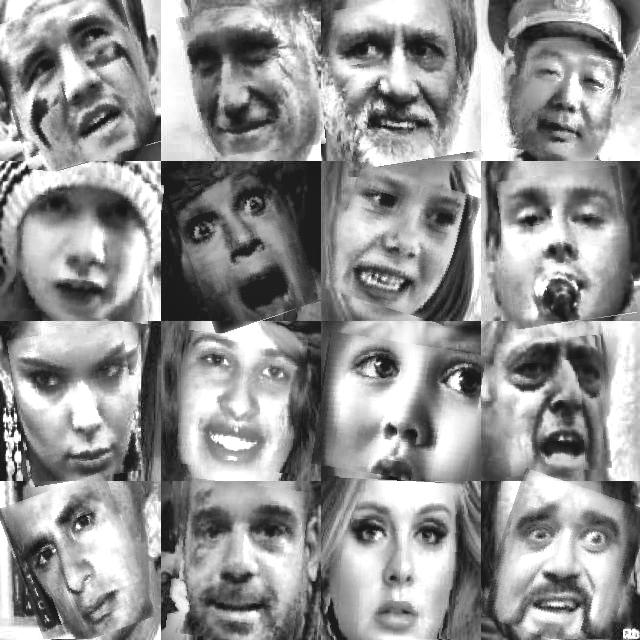angry: (13, 326, 139, 483), (496, 337, 610, 475)
fear: (314, 337, 482, 483), (178, 166, 310, 329)
happy: (329, 0, 476, 172), (486, 477, 640, 640), (169, 480, 306, 640), (15, 173, 160, 321), (180, 5, 322, 156), (332, 170, 474, 318), (178, 332, 306, 472), (495, 41, 623, 158)
neutral: (0, 0, 152, 169), (321, 478, 466, 640), (7, 478, 144, 640), (500, 169, 633, 326)
